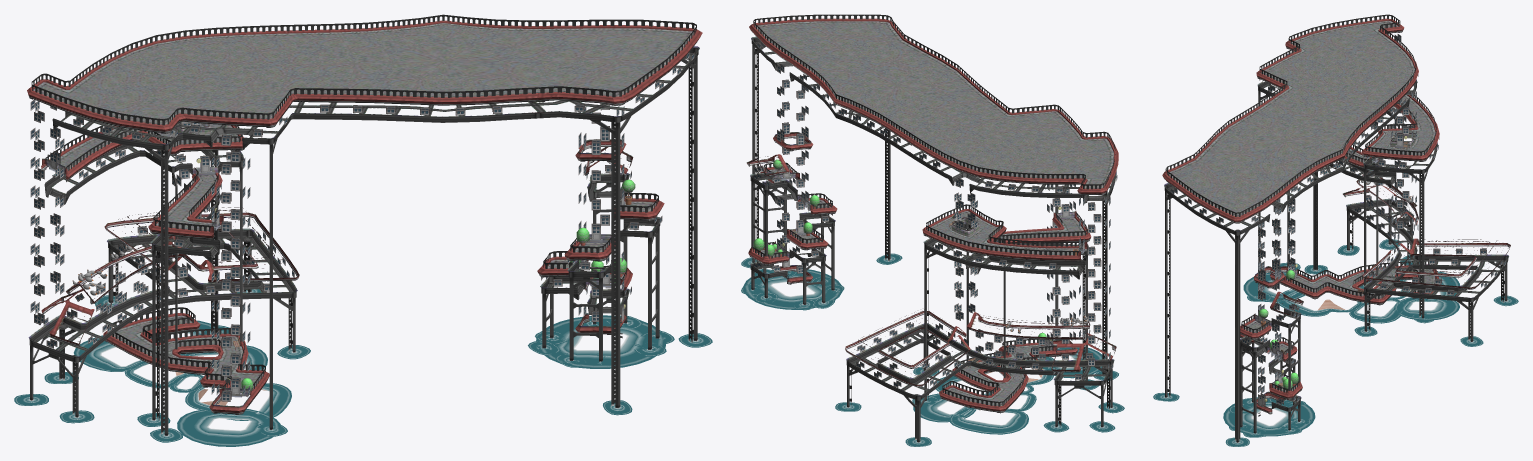
The model's file is TownBsAvNciNGNx02Zdl.obj.
3 renders of one model, left to right at view 1: azimuth 30°, elevation 25°; view 2: azimuth 150°, elevation 25°; view 3: azimuth 270°, elevation 25°, orthographic. The views are drawn at different scales.
Parts seen in each view (by area): view 1: House, Fencing, Windows, Water, Plants; view 2: House, Fencing, Windows, Water, Plants, Props; view 3: House, Fencing, Water, Windows, Plants.
Boxes of the visible parts, x1,y1,x2,y2 form: House: [27, 20, 702, 435]; Fencing: [31, 14, 696, 434]; Windows: [30, 52, 694, 401]; Water: [14, 289, 712, 446]; Plants: [241, 179, 635, 390]; House: [746, 18, 1118, 442]; Fencing: [753, 14, 1115, 439]; Windows: [753, 42, 1117, 387]; Water: [741, 253, 1124, 446]; Plants: [753, 159, 1046, 341]; Props: [757, 43, 1109, 369]; House: [1162, 18, 1510, 442]; Fencing: [1165, 14, 1504, 440]; Water: [1153, 239, 1518, 446]; Windows: [1171, 34, 1505, 406]; Plants: [1259, 270, 1298, 390].
Bounding box in the file's own units: 21.31 × 11 × 15.83.
Materials: 1 (1 with a texture image).
